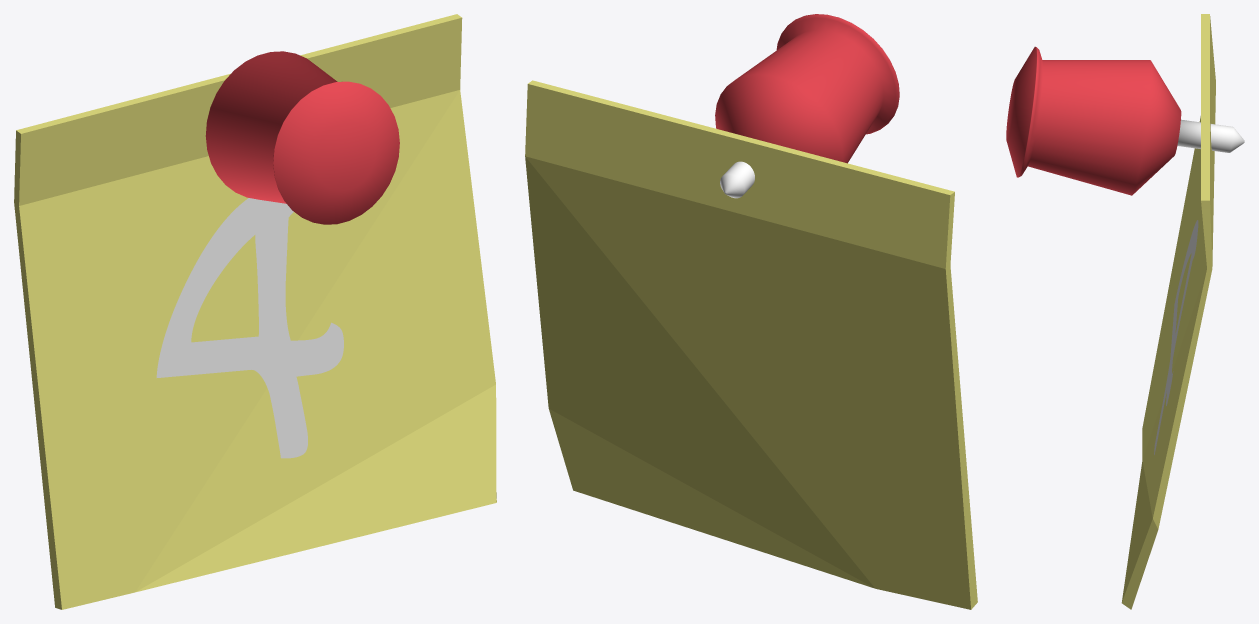
Rendered from level4.fbx.
3 renders of one model, left to right at view 1: azimuth 30°, elevation 25°; view 2: azimuth 150°, elevation 25°; view 3: azimuth 270°, elevation 25°, orthographic. The views are drawn at different scales.
Parts seen in each view (by area): view 1: SM_Prop_Note_04, pin.001, Text.001; view 2: SM_Prop_Note_04, pin.001; view 3: pin.001, SM_Prop_Note_04, Text.001.
Boxes of the visible parts, x1=… form: SM_Prop_Note_04: x1=14, y1=14, x2=496, y2=609; pin.001: x1=205, y1=51, x2=399, y2=224; Text.001: x1=156, y1=198, x2=343, y2=458; SM_Prop_Note_04: x1=525, y1=80, x2=977, y2=609; pin.001: x1=715, y1=14, x2=899, y2=198; pin.001: x1=1006, y1=46, x2=1244, y2=195; SM_Prop_Note_04: x1=1121, y1=14, x2=1215, y2=609; Text.001: x1=1154, y1=220, x2=1198, y2=454.
Size of the model in its own units: 103 by 114 by 52.33.
